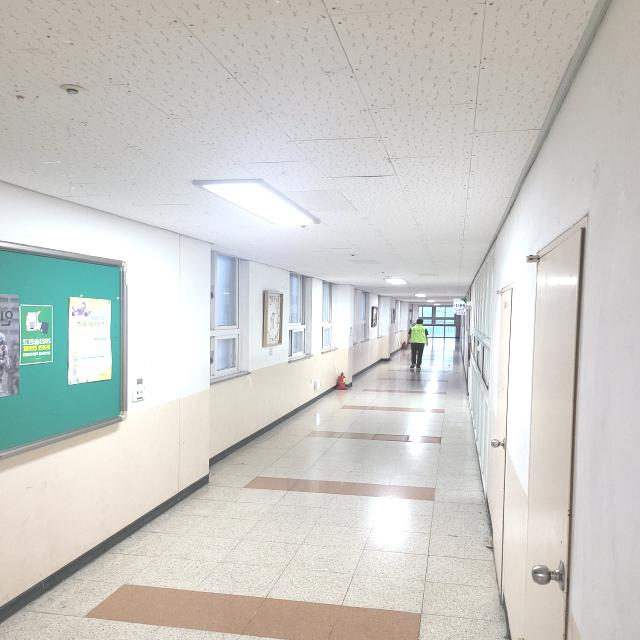weston_spy: (403, 325, 431, 348)
